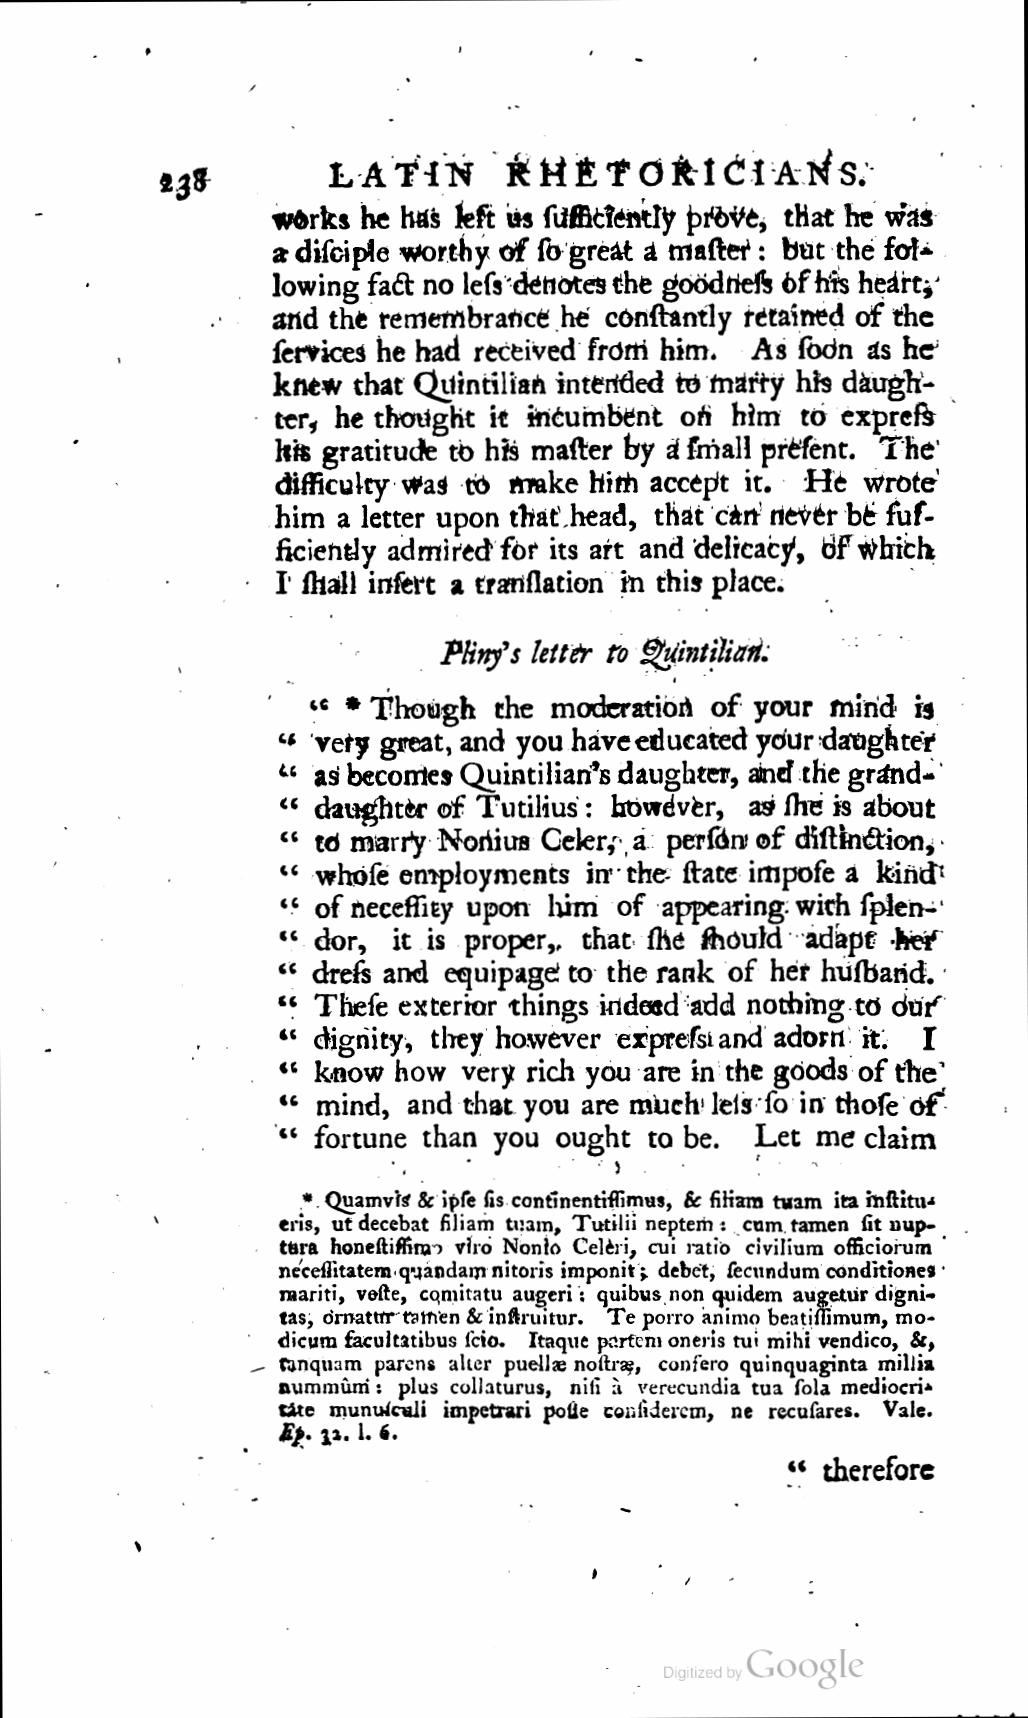bottom_p: (270, 202, 937, 602)
catchword: (782, 1452, 937, 1486)
footnotes: (280, 1191, 942, 1448)
full_p: (434, 635, 772, 671)
header: (328, 153, 868, 192)
page_num: (153, 163, 215, 202)
top_p: (273, 693, 942, 1153)
